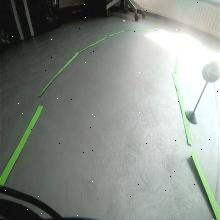left: (202, 61, 220, 83)
